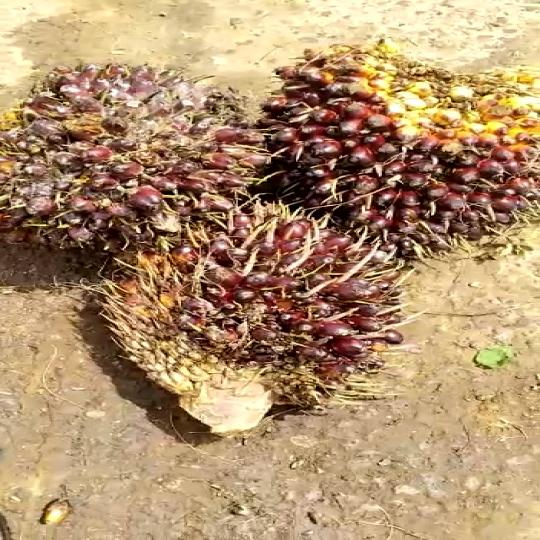kurang masak: (56, 189, 424, 456), (237, 39, 540, 270), (0, 56, 262, 264)
